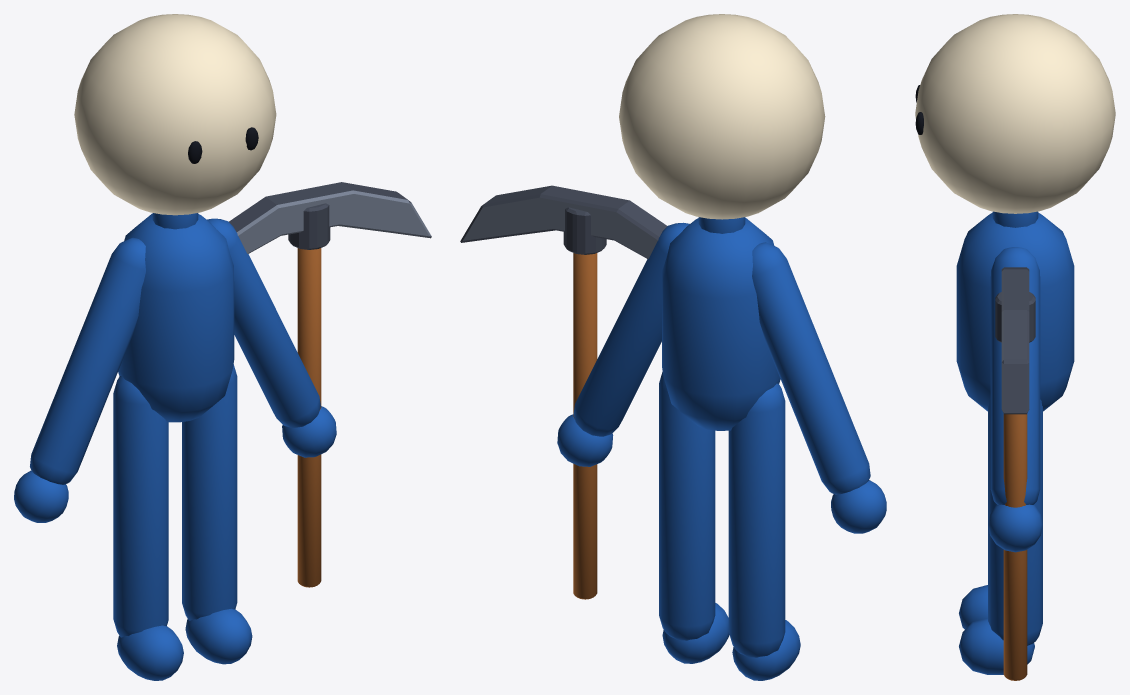
File: PlayerCharacter_Stickman.fbx
The picture shows the model from 3 angles, left to right: view 1: azimuth 30°, elevation 25°; view 2: azimuth 150°, elevation 25°; view 3: azimuth 270°, elevation 25°; orthographic projection. The views are drawn at different scales.
Visible parts, largest first — view 1: Head_Round, Body_Capsule, Leg_Capsule_L, Arm_Capsule_L, Leg_Capsule_R, Arm_Capsule_R, Pickaxe_Blade, Pickaxe_Handle, Foot_Round_R, Foot_Round_L, Hand_Round_L, Hand_Round_R (+1 smaller); view 2: Head_Round, Body_Capsule, Leg_Capsule_L, Leg_Capsule_R, Arm_Capsule_L, Arm_Capsule_R, Pickaxe_Blade, Pickaxe_Handle, Hand_Round_L, Hand_Round_R, Foot_Round_L, Foot_Round_R (+2 smaller); view 3: Head_Round, Body_Capsule, Arm_Capsule_R, Pickaxe_Handle, Pickaxe_Blade, Leg_Capsule_R, Hand_Round_R, Foot_Round_R, Foot_Round_L, Pickaxe_Ferrule, Body_Neck.
Boxes of the visible parts, x1,y1,x2,y2 form: Head_Round: [74, 14, 276, 215]; Body_Capsule: [118, 213, 234, 422]; Leg_Capsule_L: [113, 376, 168, 637]; Arm_Capsule_L: [30, 237, 145, 484]; Leg_Capsule_R: [182, 364, 237, 620]; Arm_Capsule_R: [207, 218, 320, 427]; Pickaxe_Blade: [229, 182, 431, 253]; Pickaxe_Handle: [297, 248, 321, 587]; Foot_Round_R: [185, 608, 252, 664]; Foot_Round_L: [117, 625, 183, 680]; Hand_Round_L: [14, 470, 68, 522]; Hand_Round_R: [282, 406, 336, 457]; Head_Round: [619, 14, 825, 219]; Body_Capsule: [662, 218, 780, 430]; Leg_Capsule_L: [728, 383, 785, 657]; Leg_Capsule_R: [659, 372, 715, 640]; Arm_Capsule_L: [752, 242, 870, 494]; Arm_Capsule_R: [573, 222, 689, 436]; Pickaxe_Blade: [460, 185, 667, 258]; Pickaxe_Handle: [573, 253, 597, 599]; Hand_Round_L: [831, 480, 886, 533]; Hand_Round_R: [557, 414, 613, 466]; Foot_Round_L: [732, 620, 800, 680]; Foot_Round_R: [662, 603, 729, 663]; Head_Round: [915, 14, 1115, 213]; Body_Capsule: [956, 212, 1074, 411]; Arm_Capsule_R: [990, 247, 1040, 504]; Pickaxe_Handle: [1003, 414, 1027, 680]; Pickaxe_Blade: [1001, 267, 1029, 414]; Leg_Capsule_R: [988, 399, 1042, 645]; Hand_Round_R: [988, 504, 1042, 552]; Foot_Round_R: [959, 618, 1034, 674]; Foot_Round_L: [959, 585, 987, 629]; Pickaxe_Ferrule: [995, 292, 1035, 342]; Body_Neck: [992, 211, 1038, 227].
Bounding box in the file's own units: 1.07 × 1.6 × 0.46.
